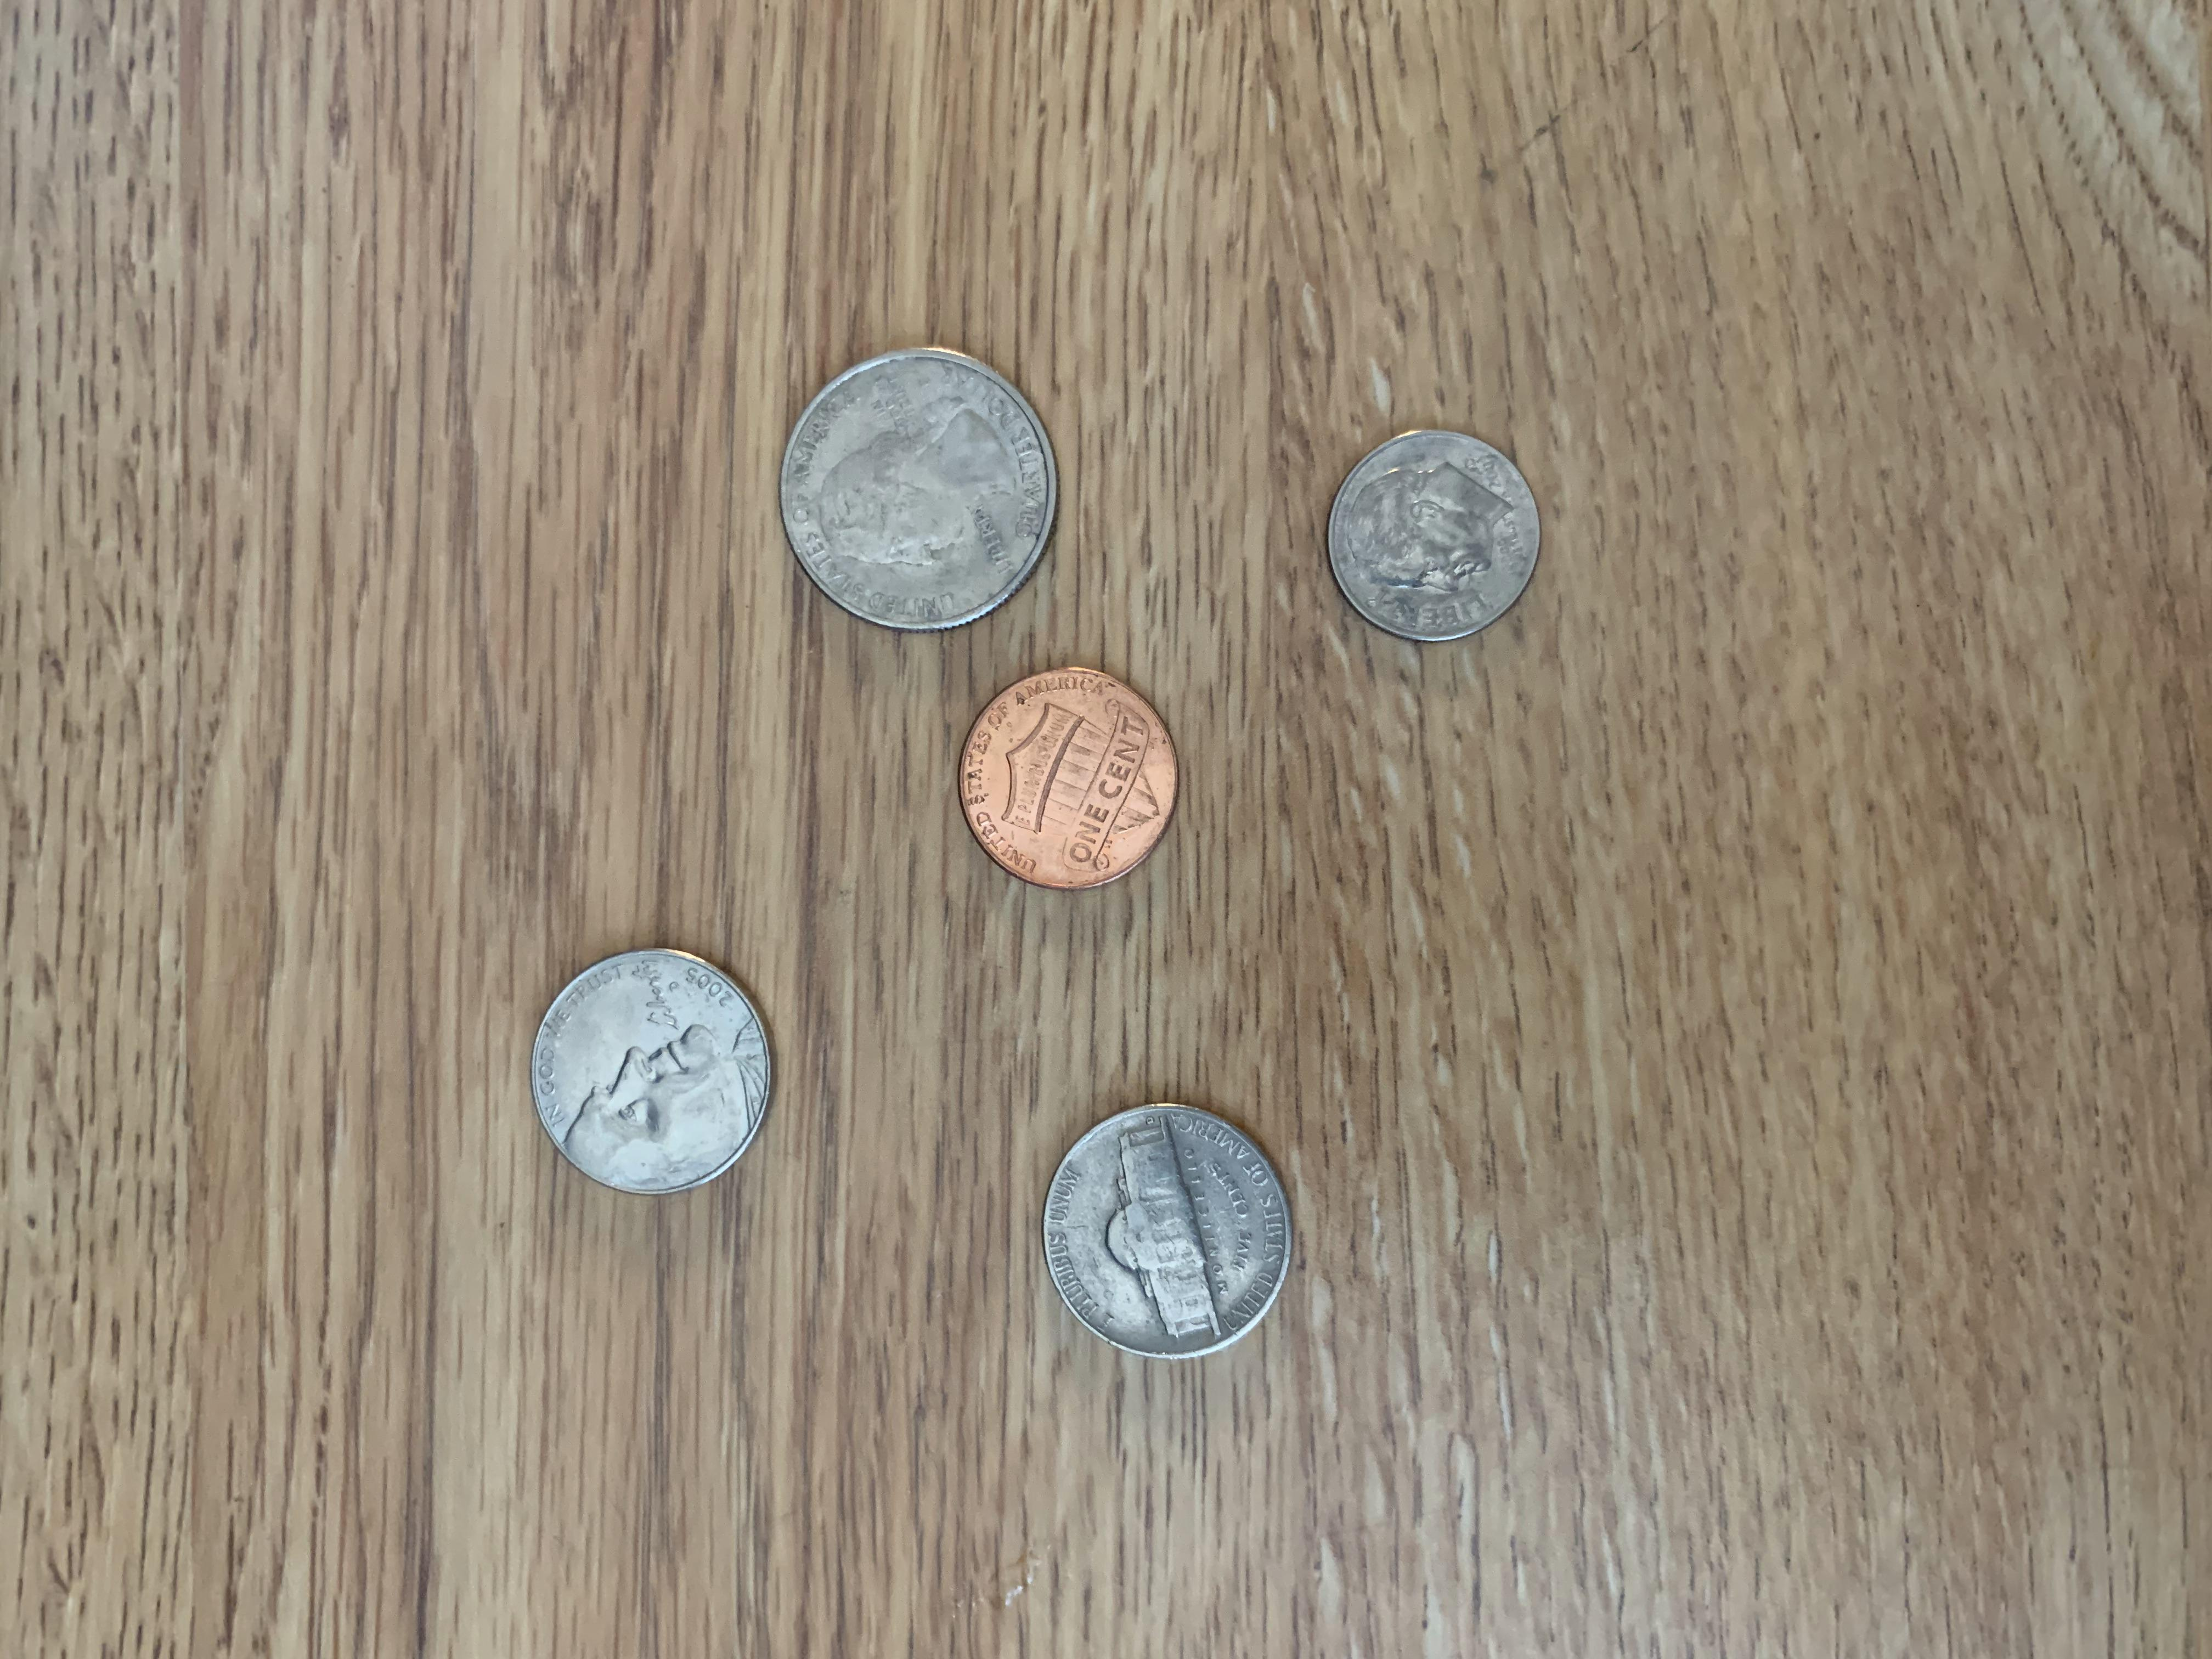Dime: (1318, 422, 1547, 645)
Nickel: (1026, 1091, 1303, 1364), (517, 939, 784, 1204)
Penny: (954, 659, 1184, 903)
Quarter: (772, 345, 1059, 643)
